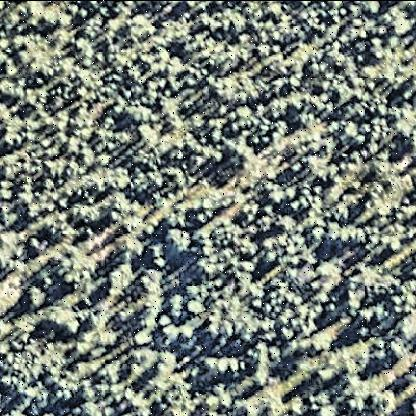tree-top: (105, 260, 140, 294), (46, 306, 82, 338), (125, 347, 163, 377), (315, 258, 348, 291), (384, 6, 416, 38), (116, 233, 147, 263), (124, 15, 157, 43), (164, 225, 194, 255), (200, 354, 230, 384), (32, 2, 64, 30), (66, 201, 100, 227), (155, 345, 181, 378), (367, 387, 397, 415), (1, 110, 25, 144), (108, 190, 136, 218), (107, 163, 133, 191), (309, 328, 335, 355), (190, 196, 218, 220), (225, 12, 250, 35), (25, 286, 47, 310), (2, 225, 20, 253), (186, 298, 210, 319), (165, 291, 185, 316), (203, 321, 225, 343), (275, 304, 296, 326), (284, 395, 306, 416), (267, 183, 288, 205), (234, 102, 255, 123), (308, 222, 328, 244), (275, 213, 295, 234), (314, 402, 344, 416), (158, 325, 181, 343), (132, 328, 152, 348), (270, 116, 290, 136), (94, 148, 113, 168), (355, 306, 375, 325), (1, 207, 17, 229), (341, 119, 359, 137), (181, 321, 198, 340), (26, 236, 43, 254), (278, 326, 294, 342), (365, 1, 382, 15)
